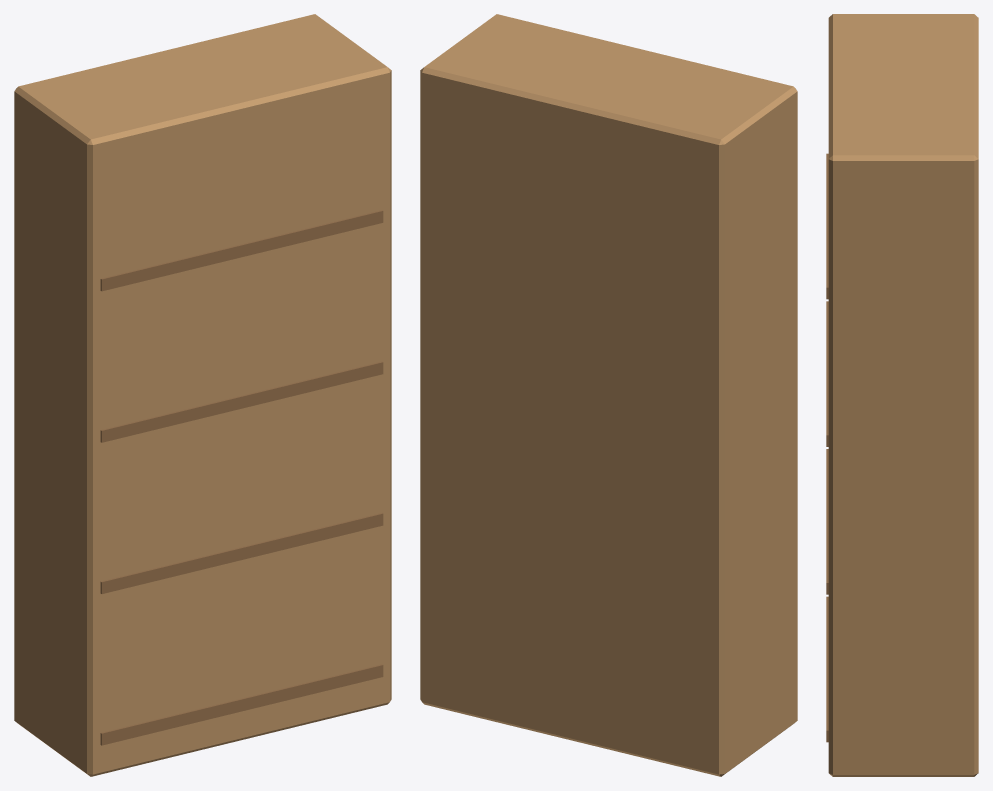
Rendered from bookshelf.glb.
3 views of the same model, side by side, from view 1: azimuth 30°, elevation 25°; view 2: azimuth 150°, elevation 25°; view 3: azimuth 270°, elevation 25° (orthographic). The views are drawn at different scales.
Visible parts, largest first — view 1: bookshelf_mesh; view 2: bookshelf_mesh; view 3: bookshelf_mesh.
Boxes of the visible parts, <box> form: bookshelf_mesh: <box>14,14,391,776</box>; bookshelf_mesh: <box>420,14,797,776</box>; bookshelf_mesh: <box>826,14,978,776</box>.
Bounding box in the file's own units: 0.8 × 1.6 × 0.355.
